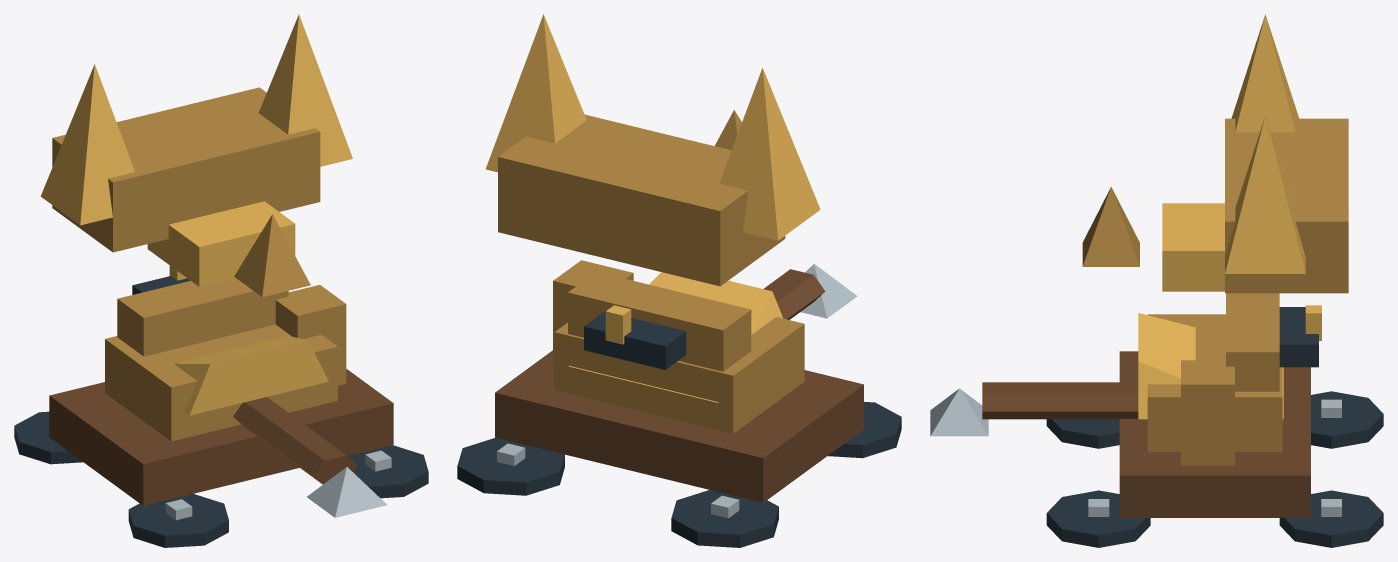
Rendered from legendary-land.obj.
The picture shows the model from 3 angles, left to right: view 1: azimuth 30°, elevation 25°; view 2: azimuth 150°, elevation 25°; view 3: azimuth 270°, elevation 25°; orthographic projection. The views are drawn at different scales.
Parts seen in each view (by area): view 1: siege; view 2: siege; view 3: siege.
Part boxes in pixels (x1,y1,x2,y2): siege: [14, 14, 428, 547]; siege: [457, 14, 901, 547]; siege: [930, 14, 1383, 547].
Size of the model in its own units: 1.9 by 2.53 by 2.53.
